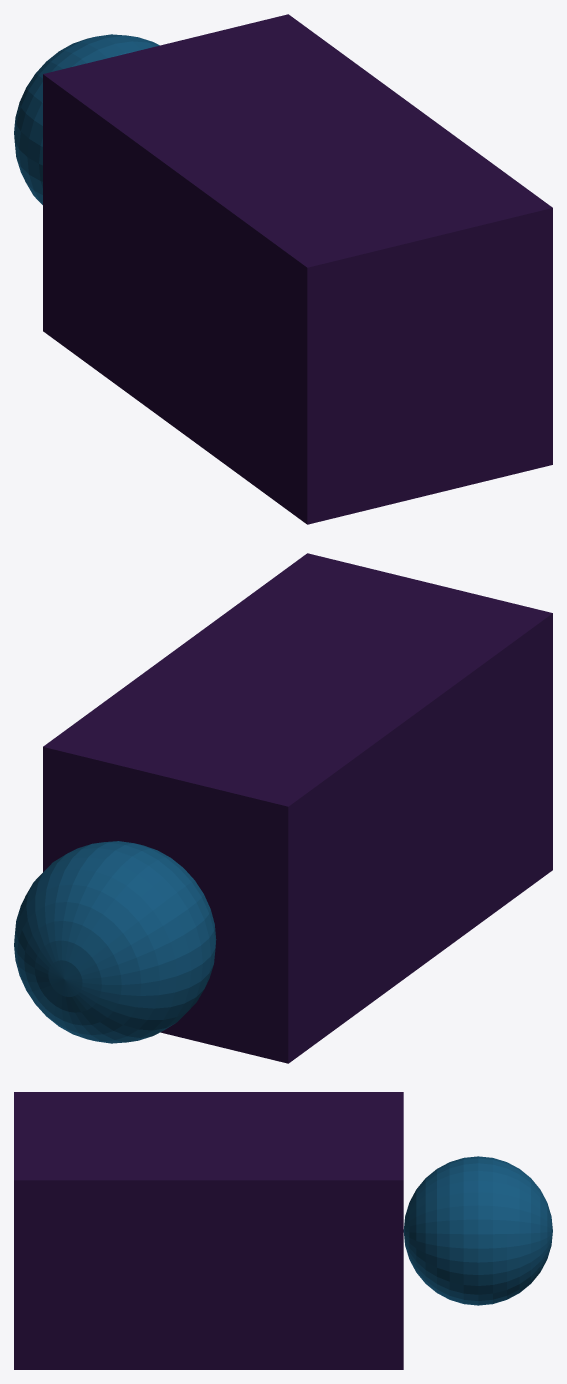
Rendered from SteleLastDoor.fbx.
The picture shows the model from 3 angles, top to bottom: view 1: azimuth 30°, elevation 25°; view 2: azimuth 150°, elevation 25°; view 3: azimuth 270°, elevation 25°; orthographic projection. The views are drawn at different scales.
Parts seen in each view (by area): view 1: Sphere, Sphere.001; view 2: Sphere, Sphere.001; view 3: Sphere, Sphere.001.
Boxes of the visible parts, x1,y1,x2,y2 form: Sphere: [43, 14, 552, 524]; Sphere.001: [14, 34, 159, 204]; Sphere: [43, 553, 552, 1063]; Sphere.001: [14, 841, 216, 1043]; Sphere: [14, 1092, 403, 1369]; Sphere.001: [403, 1156, 552, 1305].
Bounding box in the file's own units: 46.72 × 46.72 × 121.
